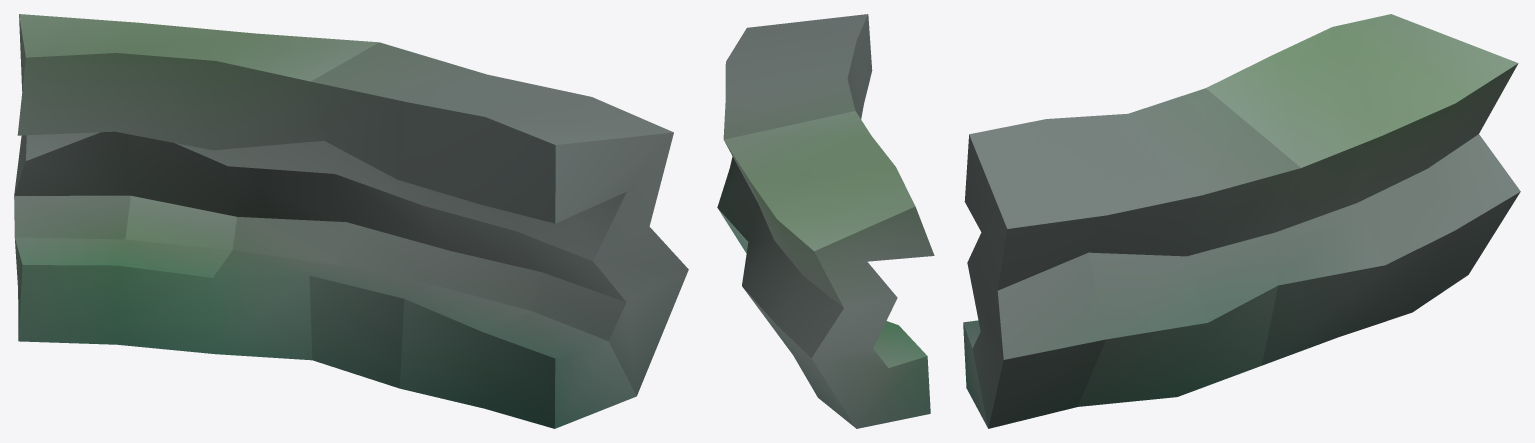
Rendered from grotto_rubble_a.glb.
3 renders of one model, left to right at view 1: azimuth 30°, elevation 25°; view 2: azimuth 150°, elevation 25°; view 3: azimuth 270°, elevation 25°, orthographic. The views are drawn at different scales.
Visible parts, largest first — view 1: grotto_rubble_a; view 2: grotto_rubble_a; view 3: grotto_rubble_a.
Part boxes in pixels (left/top/right/bottom): grotto_rubble_a: left=14, top=14, right=688, bottom=428; grotto_rubble_a: left=717, top=14, right=934, bottom=428; grotto_rubble_a: left=963, top=14, right=1520, bottom=428.
Size of the model in its own units: 3.51 by 2.12 by 4.03.
